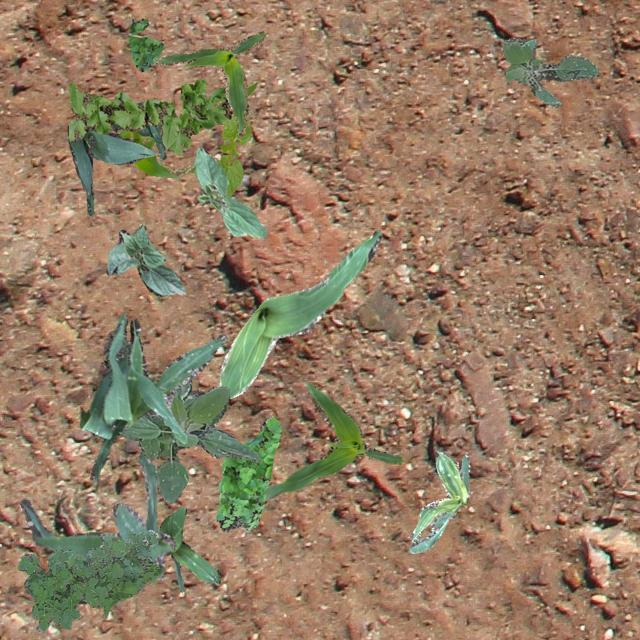crop: (218, 230, 380, 398), (78, 312, 226, 480), (19, 450, 174, 602), (118, 378, 260, 502), (264, 382, 402, 498), (117, 80, 255, 176), (154, 31, 264, 136), (68, 121, 164, 215), (193, 146, 266, 236), (408, 450, 468, 552), (104, 222, 184, 296), (158, 504, 220, 590), (212, 110, 250, 198)
weed: (16, 528, 158, 632), (68, 78, 230, 154), (214, 416, 280, 530), (502, 36, 598, 106), (126, 18, 162, 70)
